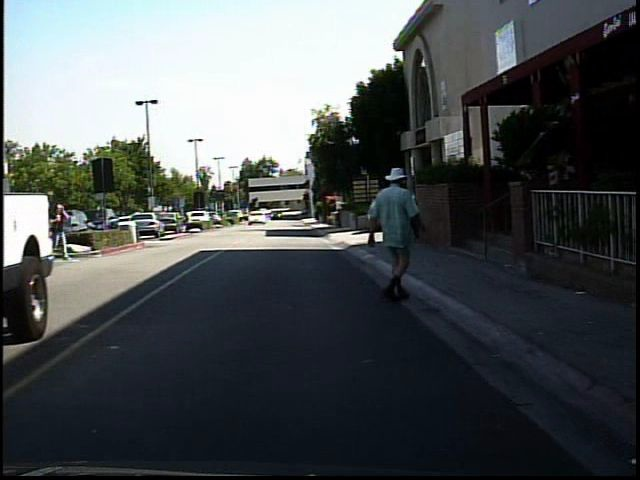person: (366, 156, 429, 307), (47, 196, 76, 267), (180, 204, 196, 229)
